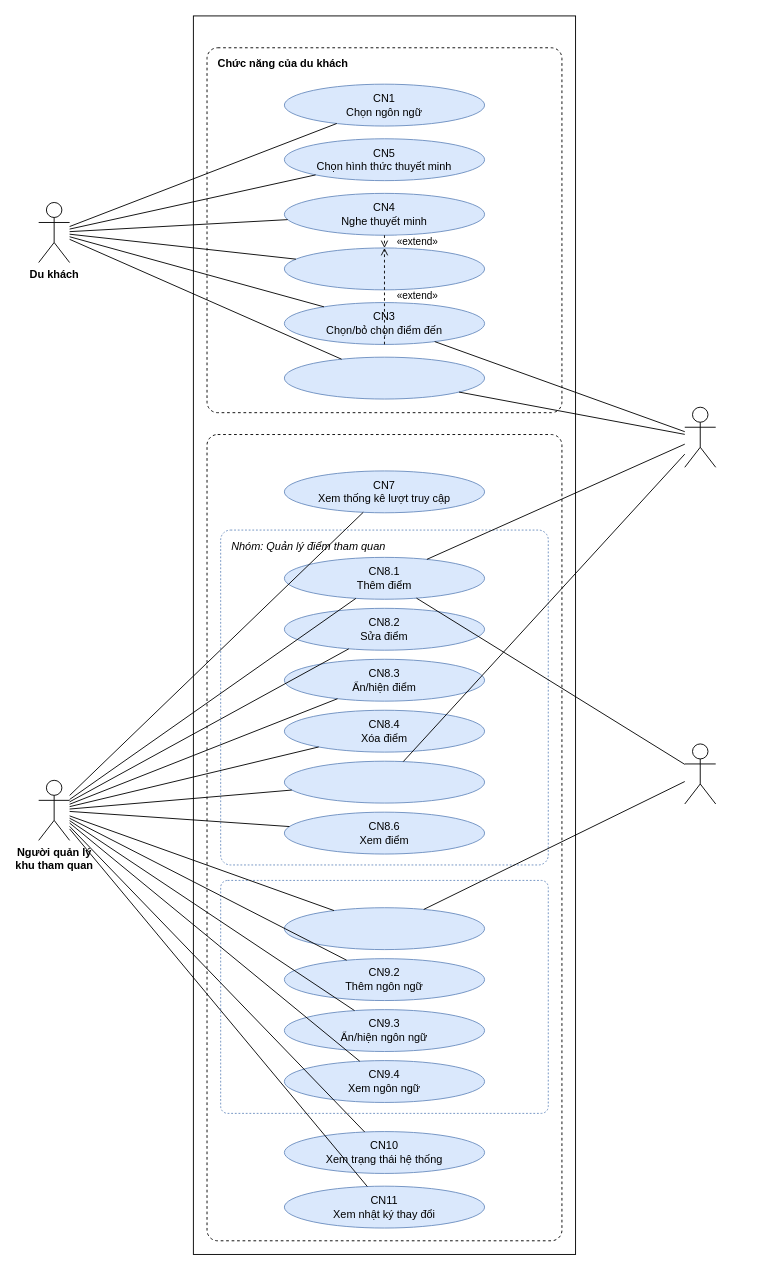
Image size: 758x1270. Some labels were removed from this diagram. Here are the shapes that lost their labels. From the top down, the box of each, then its label:
(283, 247, 485, 290): CN2 Xem thông tin điểm
(283, 356, 485, 399): CN6 Bật/tắt thuyết minh tự động
(684, 406, 716, 467): Định vị GPS (thiết bị)
(192, 15, 576, 1254): Hệ thống thuyết minh đa ngôn ngữ
(283, 760, 485, 803): CN8.5 Dời cả bộ điểm
(684, 743, 716, 804): Dịch vụ edge-tts (tạo file mp3)
(206, 434, 562, 1241): Chức năng của người quản lý
(283, 907, 485, 950): CN9.1 Sửa ngôn ngữ
(220, 880, 548, 1113): Nhóm: Quản lý ngôn ngữ
